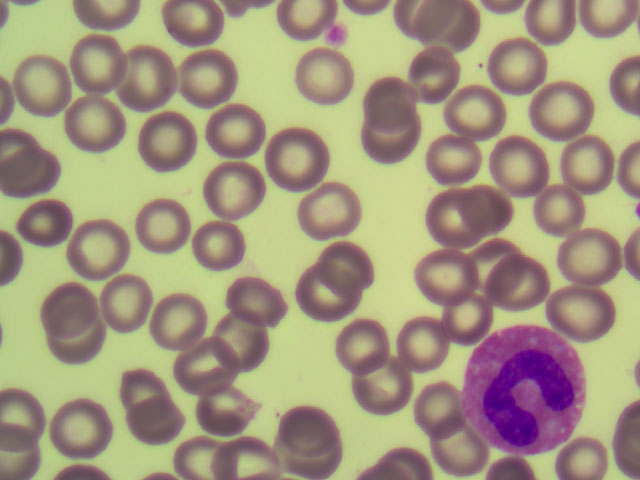Platelets: (329, 26, 347, 48)
RBC: (71, 220, 126, 278), (397, 311, 452, 369), (354, 356, 409, 414), (334, 316, 389, 374), (554, 282, 609, 340), (564, 221, 619, 279), (488, 248, 543, 306), (465, 236, 520, 294), (415, 246, 470, 304), (556, 134, 611, 192), (537, 175, 592, 233), (490, 37, 545, 95), (534, 79, 589, 137), (494, 128, 549, 186), (429, 185, 484, 243), (427, 124, 482, 182), (448, 81, 503, 139), (366, 78, 421, 136), (282, 399, 337, 457), (197, 370, 252, 428), (123, 387, 178, 445), (119, 364, 174, 422), (99, 275, 154, 333), (50, 312, 105, 370), (39, 279, 94, 337), (362, 104, 417, 162), (296, 45, 351, 103), (15, 56, 70, 114), (138, 113, 193, 171), (67, 97, 122, 155), (177, 45, 232, 103), (114, 46, 169, 104), (72, 36, 127, 94), (187, 216, 242, 274), (208, 159, 263, 217), (210, 101, 265, 159), (265, 127, 320, 185), (302, 177, 357, 235), (314, 237, 369, 295), (298, 259, 353, 317), (213, 313, 268, 371), (152, 293, 207, 351), (176, 334, 231, 392), (53, 394, 108, 452), (136, 197, 191, 255), (1, 129, 55, 187), (421, 1, 476, 57), (230, 276, 284, 331), (463, 177, 509, 232), (1, 392, 45, 448), (170, 1, 222, 47), (219, 436, 273, 480), (166, 437, 220, 480), (520, 1, 578, 41), (395, 1, 453, 41), (578, 1, 640, 37), (408, 49, 451, 100), (559, 436, 607, 480), (296, 436, 344, 480), (437, 430, 485, 474), (417, 386, 465, 430), (20, 202, 73, 241), (612, 401, 637, 477), (449, 294, 488, 342), (378, 449, 434, 480), (79, 1, 143, 28), (283, 1, 324, 37), (614, 58, 640, 109), (614, 140, 640, 191), (1, 236, 23, 289), (345, 1, 392, 14)
WBC: (473, 337, 583, 450)
